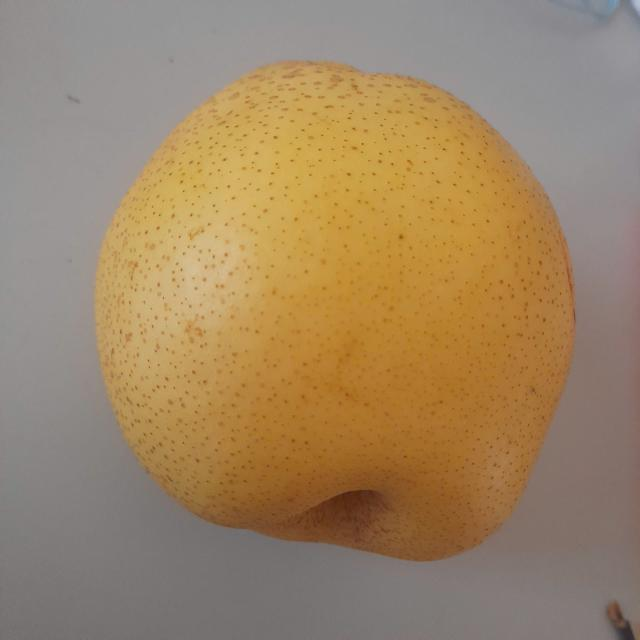Le: (91, 61, 580, 566)
